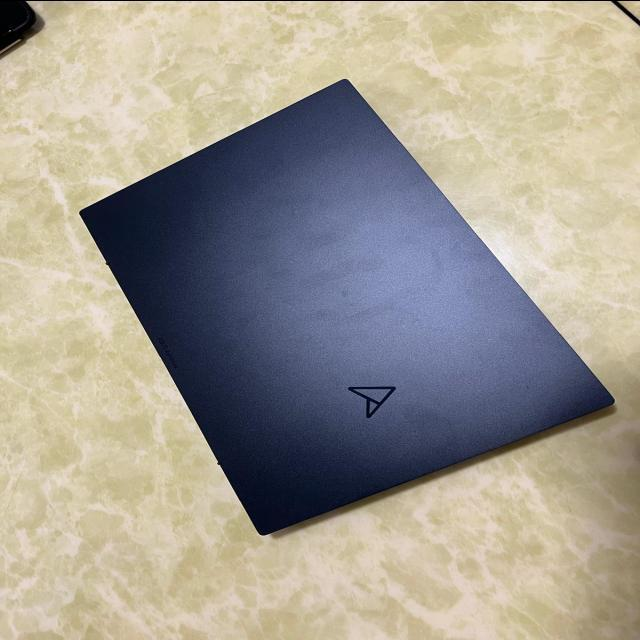laptop: (78, 77, 615, 537)
